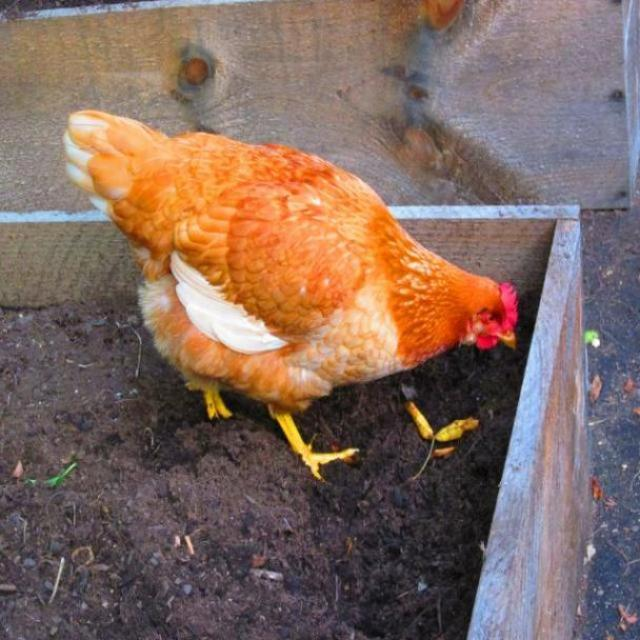Chicken: (63, 107, 525, 424)
